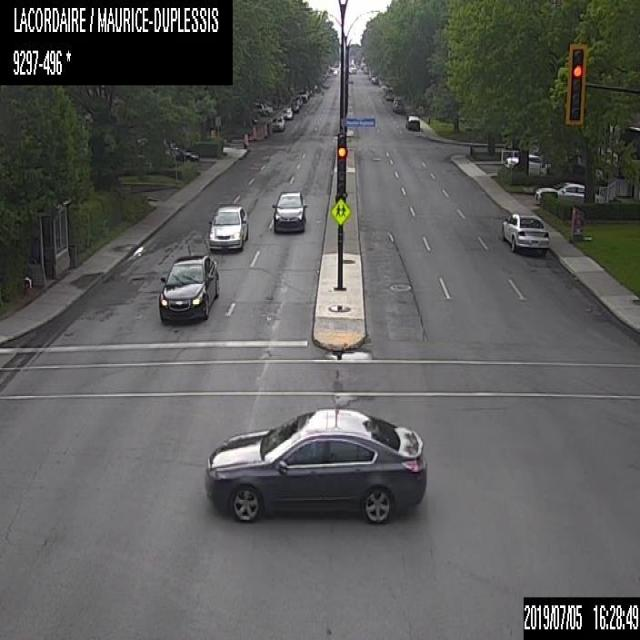construction: (248, 125, 254, 140), (242, 133, 247, 148)
vehicle: (204, 406, 427, 526), (156, 253, 220, 323), (499, 208, 550, 255), (534, 181, 602, 209), (205, 203, 247, 248), (271, 190, 307, 233), (503, 151, 551, 173), (168, 146, 198, 162), (390, 95, 404, 112), (405, 114, 419, 130), (271, 114, 283, 130), (260, 100, 272, 115), (383, 84, 393, 100), (253, 101, 262, 117), (282, 106, 292, 119), (290, 99, 300, 112), (297, 90, 307, 102), (371, 75, 377, 84)
